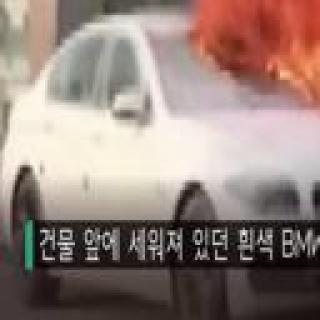fire: (218, 0, 320, 93)
